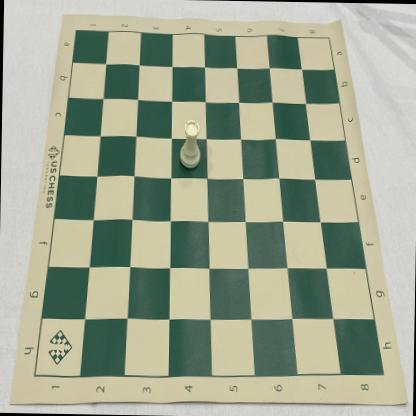white-rook: (178, 119, 202, 169)
